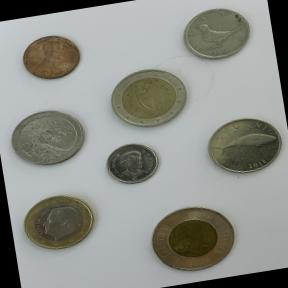coin: (140, 196, 245, 284), (101, 58, 196, 138), (197, 108, 288, 185), (4, 102, 92, 174), (14, 186, 103, 256), (15, 28, 88, 87), (98, 136, 164, 190)
